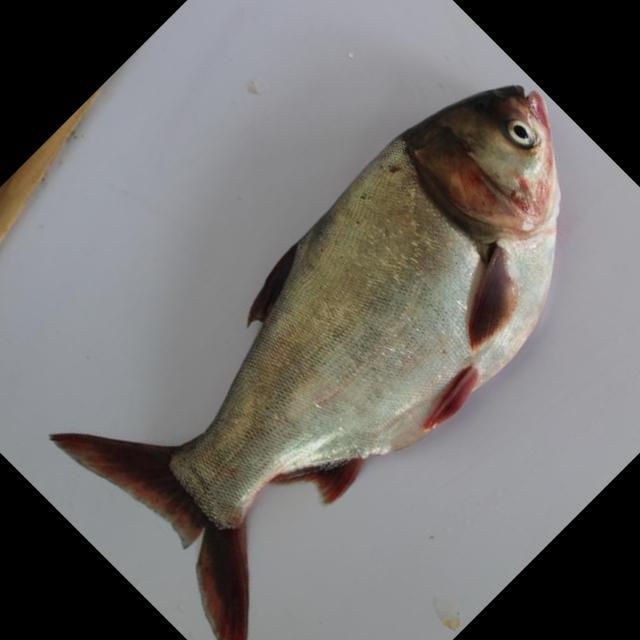SilverCarp: (73, 77, 562, 640)
